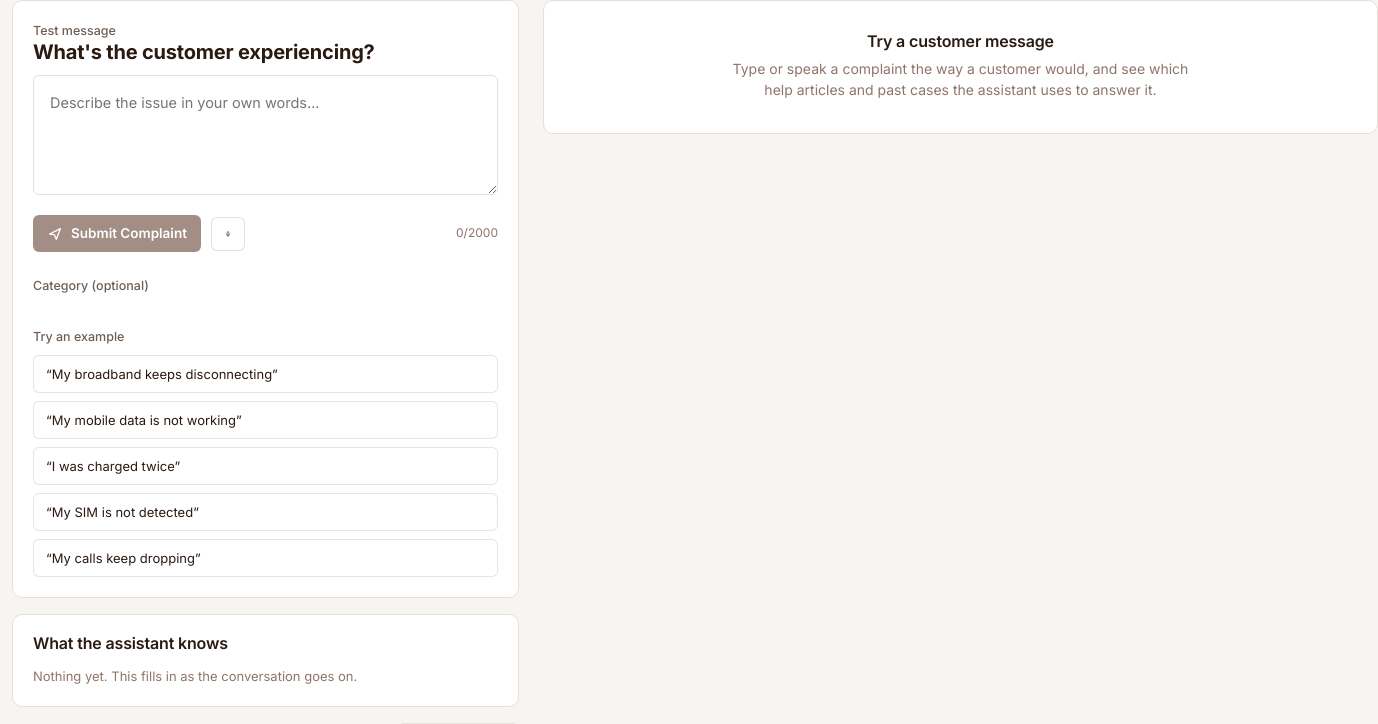
it: Support resolution flow (frontend E2E with mocked API) › shows a friendly error when the backend fails
Type "My SIM is not detected" into the text box with placeholder "Describe the issue in your own words..." at (266, 135), box [33,75,498,195]
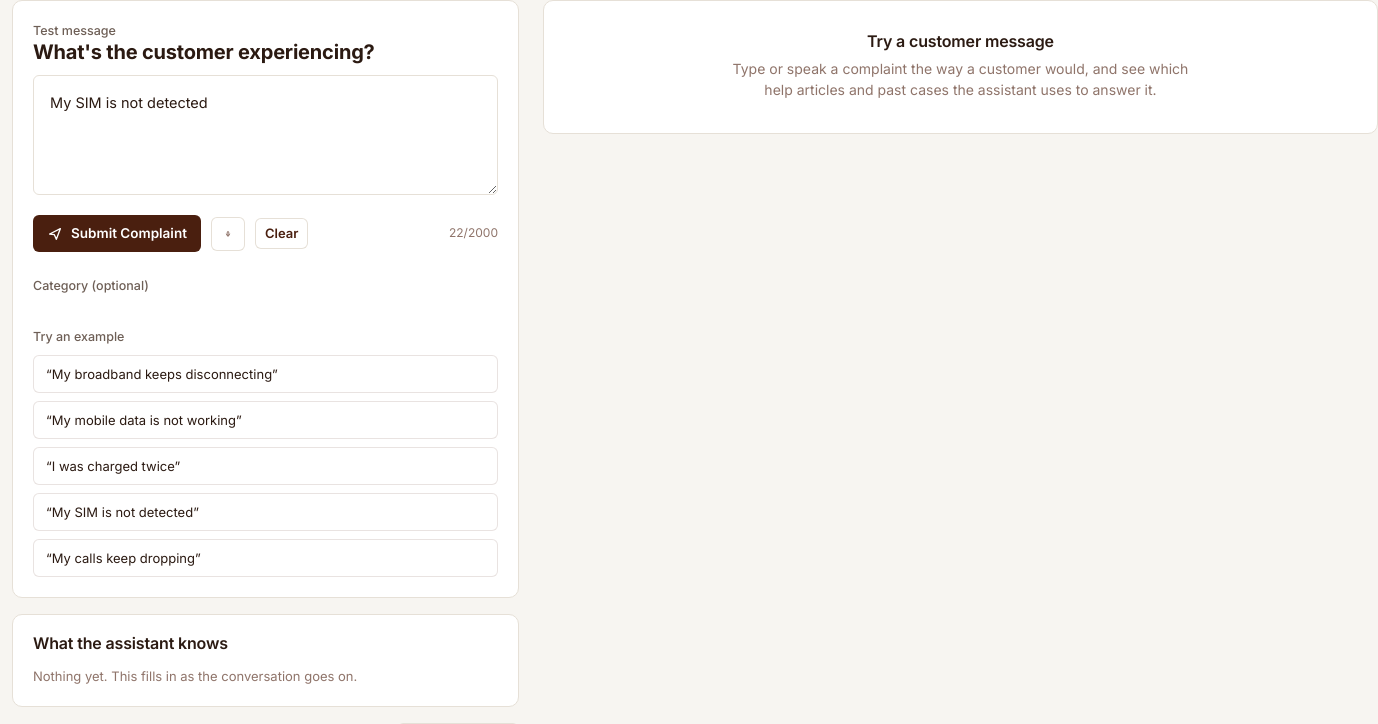
Click the button "Submit Complaint" at (117, 234), box [33,215,201,252]
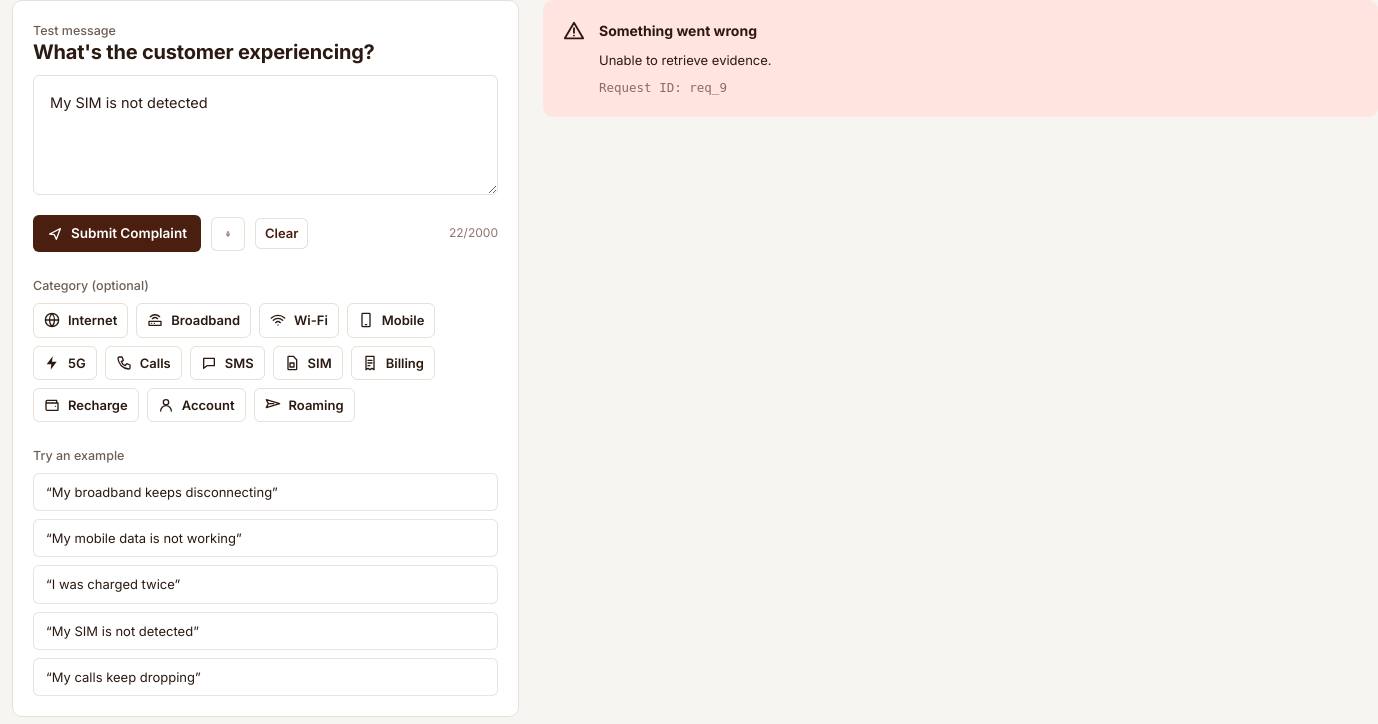
Expected: the text "Unable to retrieve evidence." is shown, [599,52,772,68]
Expected: the text "Request ID: req_9" is shown, [599,80,727,95]
